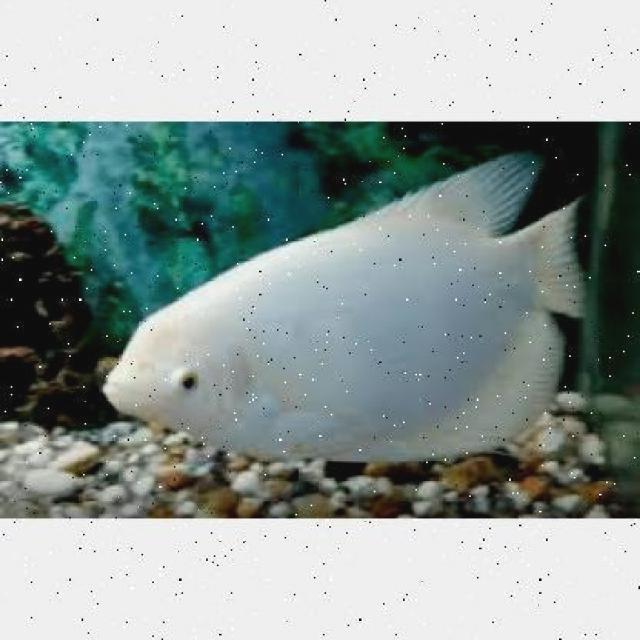gurame: (96, 152, 584, 463)
